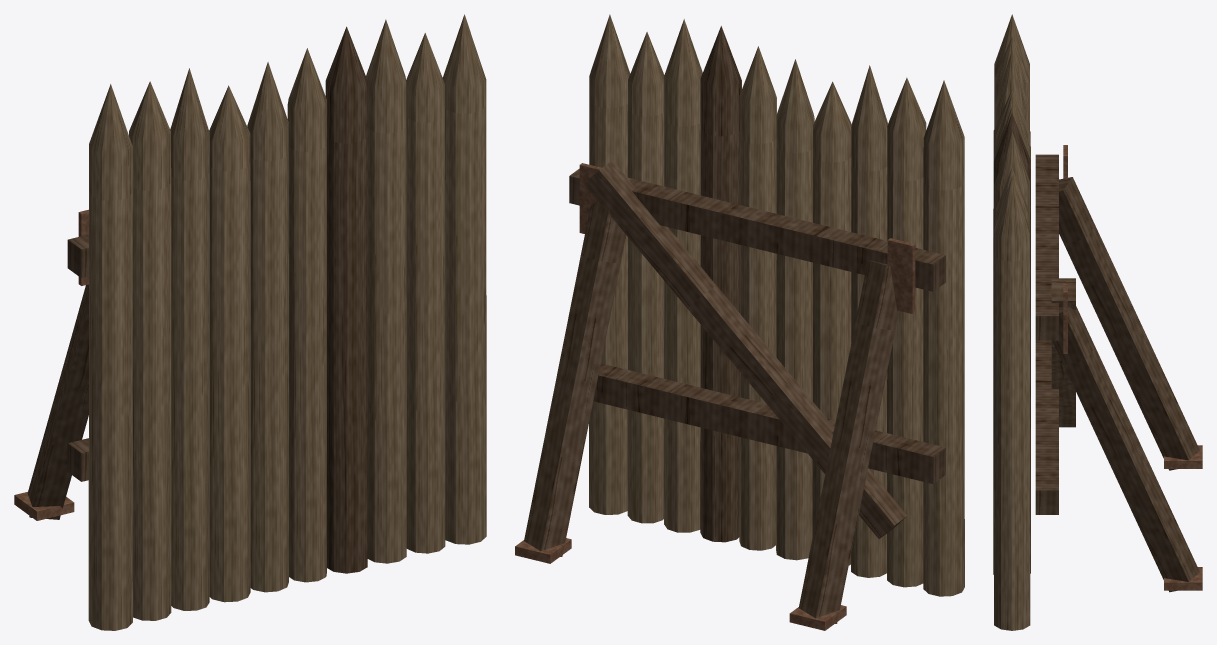
Rendered from PZ_Palisade_Reinforced_2m.glb.
The picture shows the model from 3 angles, left to right: view 1: azimuth 30°, elevation 25°; view 2: azimuth 150°, elevation 25°; view 3: azimuth 270°, elevation 25°; orthographic projection. The views are drawn at different scales.
Parts seen in each view (by area): view 1: REINFORCED__FENCE_Log_01, REINFORCED__FENCE_Log_07, REINFORCED__FENCE_Log_10, REINFORCED__FENCE_Log_04, REINFORCED__FENCE_Log_08, REINFORCED__FENCE_Log_02, REINFORCED__FENCE_Log_03, REINFORCED__FENCE_Log_09, REINFORCED__FENCE_Log_05, REINFORCED__FENCE_Log_06, REINFORCED__FENCE_Ground_KickBrace_1, REINFORCED__FENCE_Brace_FootIron_1 (+2 smaller); view 2: REINFORCED__FENCE_Log_01, REINFORCED__FENCE_Rear_DiagonalBrace, REINFORCED__FENCE_Ground_KickBrace_1, REINFORCED__FENCE_Log_07, REINFORCED__FENCE_Ground_KickBrace_2, REINFORCED__FENCE_Log_02, REINFORCED__FENCE_Log_05, REINFORCED__FENCE_Log_08, REINFORCED__FENCE_Log_09, REINFORCED__FENCE_Log_06, REINFORCED__FENCE_Rear_CrossRail_2, REINFORCED__FENCE_Log_10 (+7 smaller); view 3: REINFORCED__FENCE_Log_10, REINFORCED__FENCE_Ground_KickBrace_1, REINFORCED__FENCE_Ground_KickBrace_2, REINFORCED__FENCE_Rear_CrossRail_2, REINFORCED__FENCE_Rear_CrossRail_1, REINFORCED__FENCE_Log_07, REINFORCED__FENCE_Rear_DiagonalBrace, REINFORCED__FENCE_Log_08, REINFORCED__FENCE_Log_03, REINFORCED__FENCE_Log_02, REINFORCED__FENCE_Log_01, REINFORCED__FENCE_Log_04 (+5 smaller).
Part boxes in pixels (box(x1,y1,x2,y2)): REINFORCED__FENCE_Log_01: box(88, 84, 132, 630); REINFORCED__FENCE_Log_07: box(325, 26, 367, 573); REINFORCED__FENCE_Log_10: box(442, 14, 486, 544); REINFORCED__FENCE_Log_04: box(209, 85, 250, 602); REINFORCED__FENCE_Log_08: box(366, 19, 406, 563); REINFORCED__FENCE_Log_02: box(129, 81, 171, 620); REINFORCED__FENCE_Log_03: box(170, 68, 209, 610); REINFORCED__FENCE_Log_09: box(406, 33, 445, 553); REINFORCED__FENCE_Log_05: box(247, 62, 288, 592); REINFORCED__FENCE_Log_06: box(287, 48, 326, 582); REINFORCED__FENCE_Ground_KickBrace_1: box(27, 284, 88, 519); REINFORCED__FENCE_Brace_FootIron_1: box(14, 492, 74, 520); REINFORCED__FENCE_Log_01: box(923, 80, 964, 596); REINFORCED__FENCE_Rear_DiagonalBrace: box(584, 160, 907, 538); REINFORCED__FENCE_Ground_KickBrace_1: box(798, 260, 899, 623); REINFORCED__FENCE_Log_07: box(700, 26, 741, 542); REINFORCED__FENCE_Ground_KickBrace_2: box(524, 200, 626, 556); REINFORCED__FENCE_Log_02: box(887, 77, 926, 587); REINFORCED__FENCE_Log_05: box(776, 59, 814, 560); REINFORCED__FENCE_Log_08: box(664, 19, 702, 532); REINFORCED__FENCE_Log_09: box(627, 32, 664, 523); REINFORCED__FENCE_Log_06: box(739, 46, 776, 550); REINFORCED__FENCE_Rear_CrossRail_2: box(569, 168, 945, 291); REINFORCED__FENCE_Log_10: box(589, 14, 630, 514); REINFORCED__FENCE_Log_10: box(994, 176, 1030, 630); REINFORCED__FENCE_Ground_KickBrace_1: box(1059, 177, 1199, 470); REINFORCED__FENCE_Ground_KickBrace_2: box(1052, 306, 1199, 592); REINFORCED__FENCE_Rear_CrossRail_2: box(1035, 154, 1058, 340); REINFORCED__FENCE_Rear_CrossRail_1: box(1035, 340, 1058, 514); REINFORCED__FENCE_Log_07: box(993, 113, 1030, 574); REINFORCED__FENCE_Rear_DiagonalBrace: box(1051, 278, 1075, 427); REINFORCED__FENCE_Log_08: box(994, 131, 1029, 228); REINFORCED__FENCE_Log_03: box(995, 50, 1029, 128); REINFORCED__FENCE_Log_02: box(994, 36, 1029, 129); REINFORCED__FENCE_Log_01: box(994, 14, 1029, 129); REINFORCED__FENCE_Log_04: box(993, 89, 1030, 237).
Size of the model in its own units: 2 by 2.62 by 1.08.
Materials: 3 (3 with a texture image).
